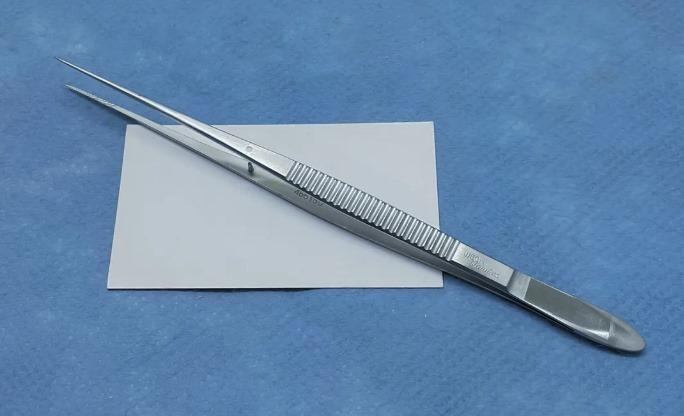Dissecting Forceps Plain: (46, 47, 649, 360)
